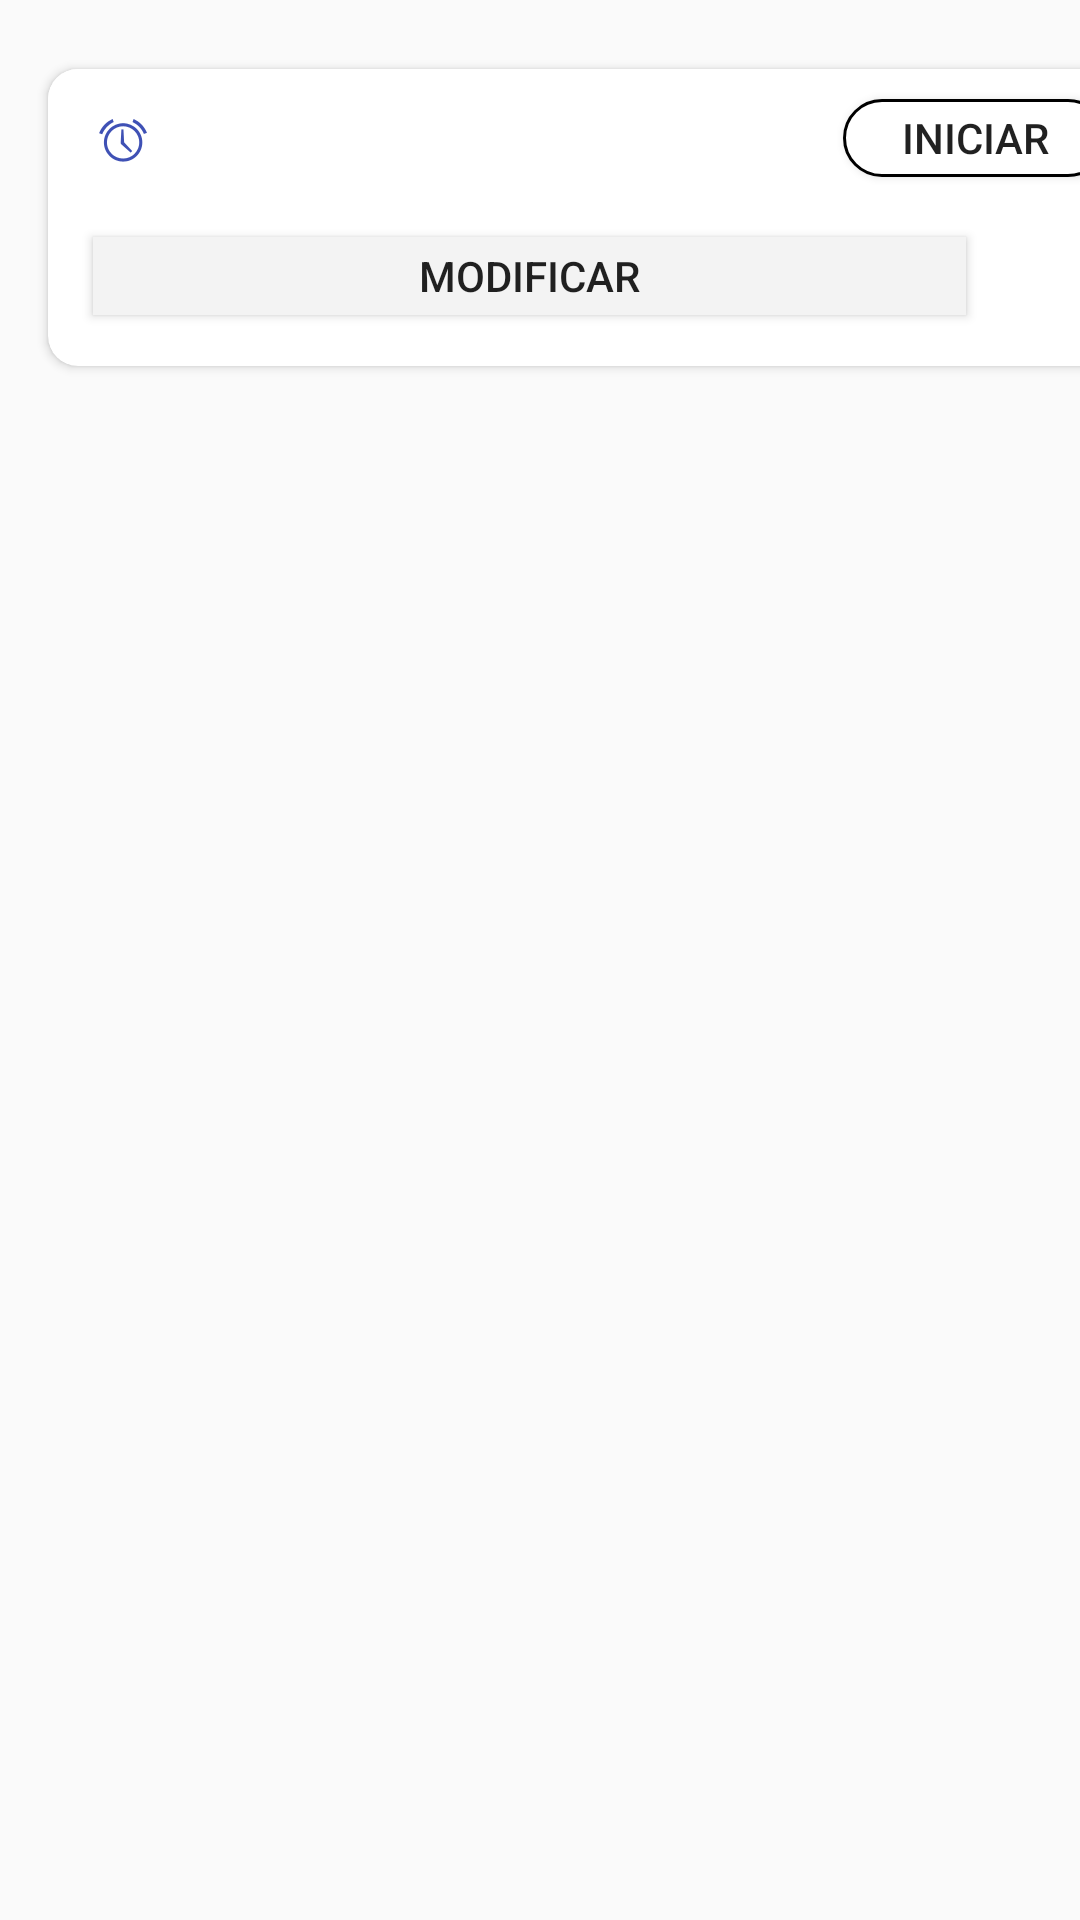

Locate icon controls on the screen. Image size 1080w x 1920h, boxes as {"left": x1, "top": y1, "right": x2, "bottom": y2}.
lock idle alarm: {"left": 99, "top": 119, "right": 147, "bottom": 162}
